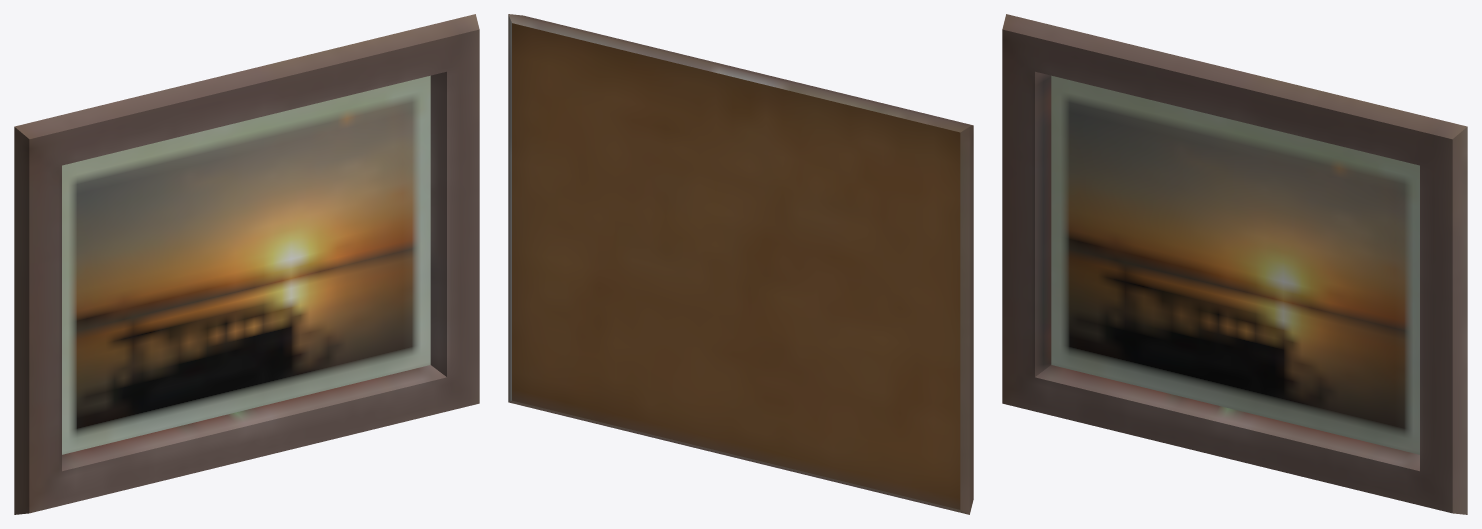
Rendered from Painting_Photo_A.FBX.
3 views of the same model, side by side, from view 1: azimuth 30°, elevation 25°; view 2: azimuth 150°, elevation 25°; view 3: azimuth 330°, elevation 25° (orthographic).
Parts seen in each view (by area): view 1: Painting_Photo_A; view 2: Painting_Photo_A; view 3: Painting_Photo_A.
Boxes of the visible parts, x1,y1,x2,y2 form: Painting_Photo_A: (14, 14, 479, 514); Painting_Photo_A: (508, 14, 973, 514); Painting_Photo_A: (1002, 14, 1467, 514).
Bounding box in the file's own units: 26.47 × 21.29 × 1.23.
